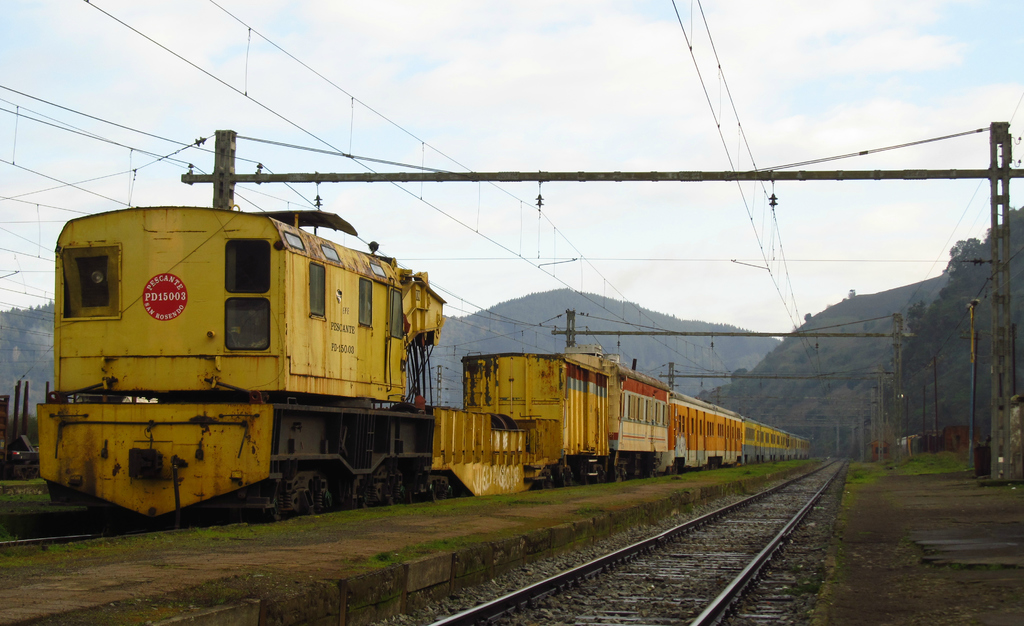train: (39, 201, 810, 518)
